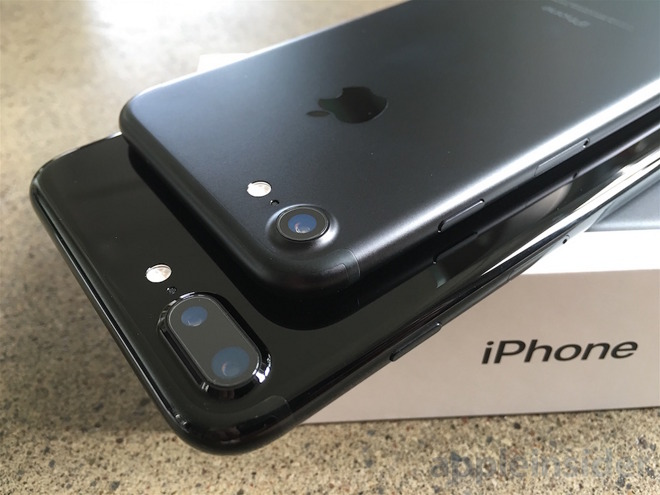apple: (299, 80, 390, 138)
